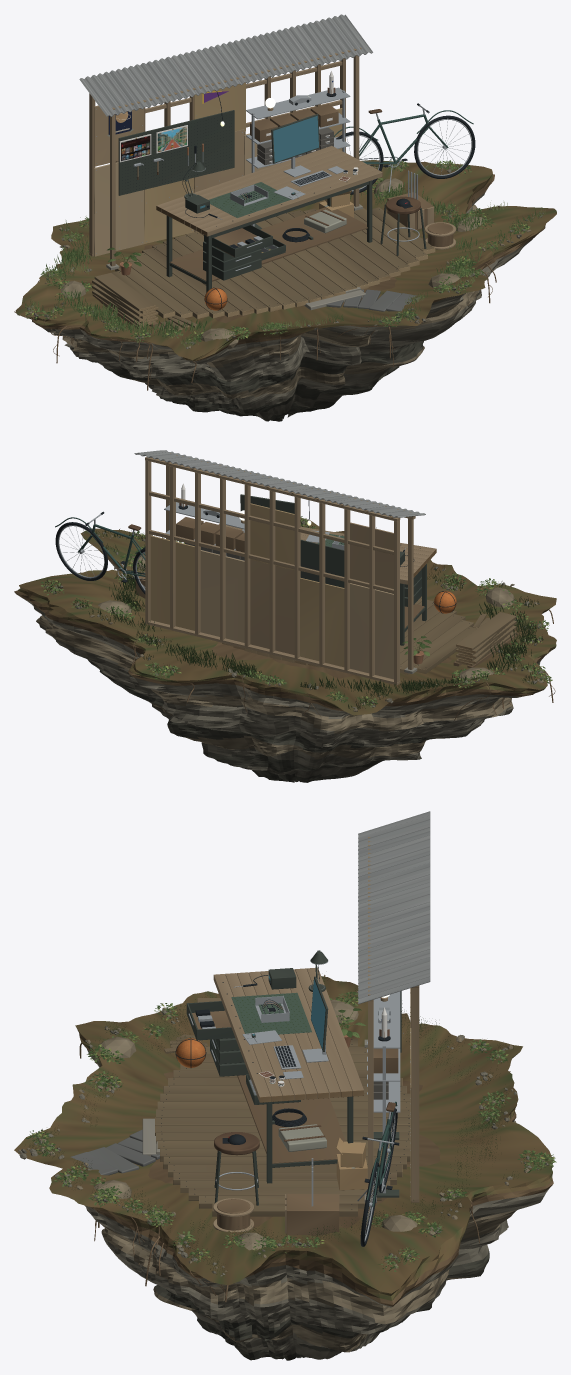
The model's file is orbit-projects-292d7ee9.glb.
3 renders of one model, top to bottom at view 1: azimuth 30°, elevation 25°; view 2: azimuth 150°, elevation 25°; view 3: azimuth 270°, elevation 25°, orthographic. The views are drawn at different scales.
Visible parts, largest first — view 1: Projects island · browser materials, Project print · TaipeiFlix, Project print · Taipei Run; view 2: Projects island · browser materials; view 3: Projects island · browser materials.
Part boxes in pixels (<box>): Projects island · browser materials: <box>14,14,556,421</box>; Project print · TaipeiFlix: <box>121,135,150,161</box>; Project print · Taipei Run: <box>157,126,186,151</box>; Projects island · browser materials: <box>14,450,556,782</box>; Projects island · browser materials: <box>14,811,556,1360</box>.
Size of the model in its own units: 12.3 by 7.91 by 8.76.
46 materials, 2 textured.
